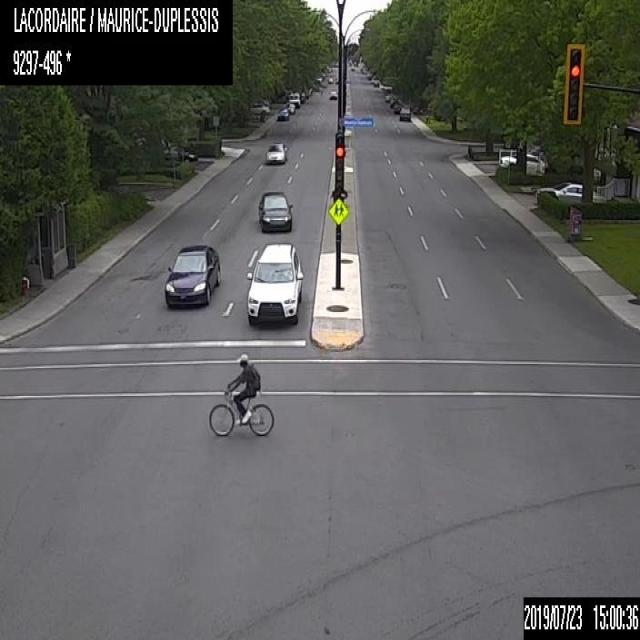cyclist: (207, 353, 274, 435)
vehicle: (244, 240, 304, 324), (163, 242, 220, 306), (529, 176, 599, 208), (498, 148, 551, 178), (258, 188, 293, 231), (162, 146, 198, 162), (266, 140, 288, 163), (248, 101, 269, 116), (288, 92, 300, 108), (276, 107, 290, 120), (398, 105, 410, 120), (284, 102, 295, 114), (393, 102, 404, 112), (390, 96, 400, 107), (328, 89, 338, 99), (384, 92, 392, 102), (298, 91, 304, 101), (372, 78, 378, 86), (315, 75, 320, 82), (328, 76, 332, 82), (351, 65, 354, 69)
